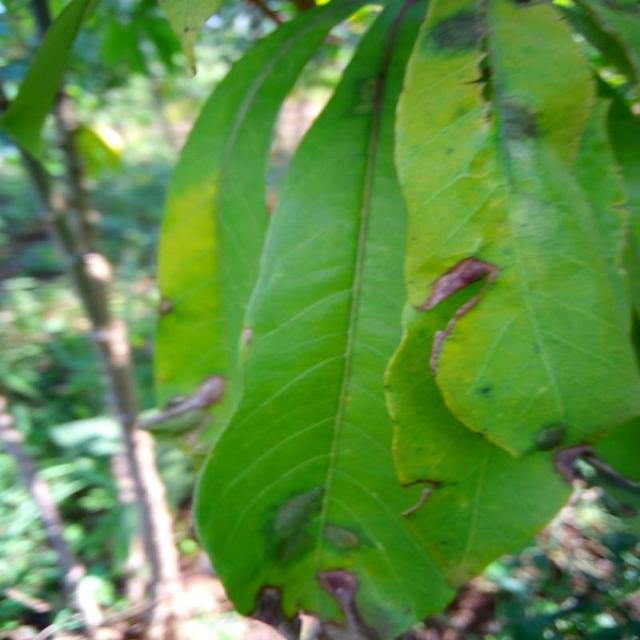cassava leaf: (172, 0, 638, 638)
